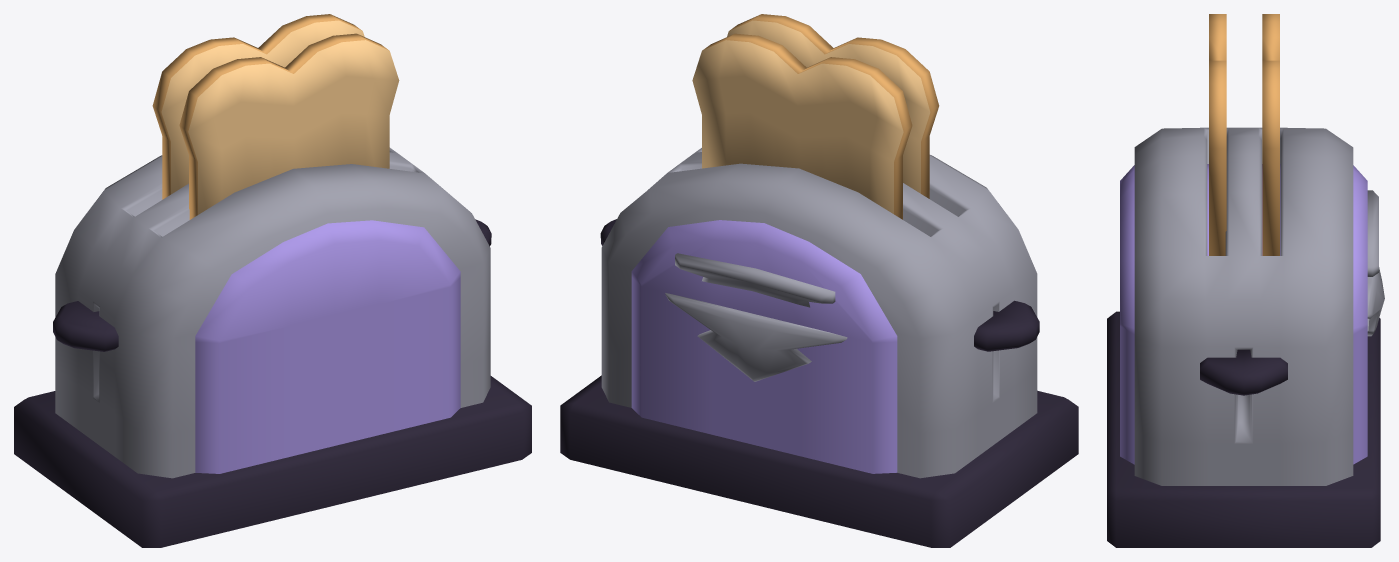
The model's file is props_toaster.fbx.
3 views of the same model, side by side, from view 1: azimuth 30°, elevation 25°; view 2: azimuth 150°, elevation 25°; view 3: azimuth 270°, elevation 25° (orthographic).
Parts seen in each view (by area): view 1: grille pain.017; view 2: grille pain.017; view 3: grille pain.017.
Boxes of the visible parts, bbox=[...] form: grille pain.017: bbox=[14, 14, 531, 547]; grille pain.017: bbox=[560, 14, 1078, 547]; grille pain.017: bbox=[1107, 14, 1384, 547].
Size of the model in its own units: 0.9553 by 0.5363 by 0.8757.
